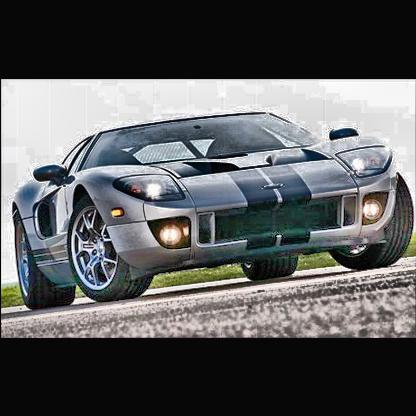Ford GT Coupe 2006: (11, 111, 415, 312)
